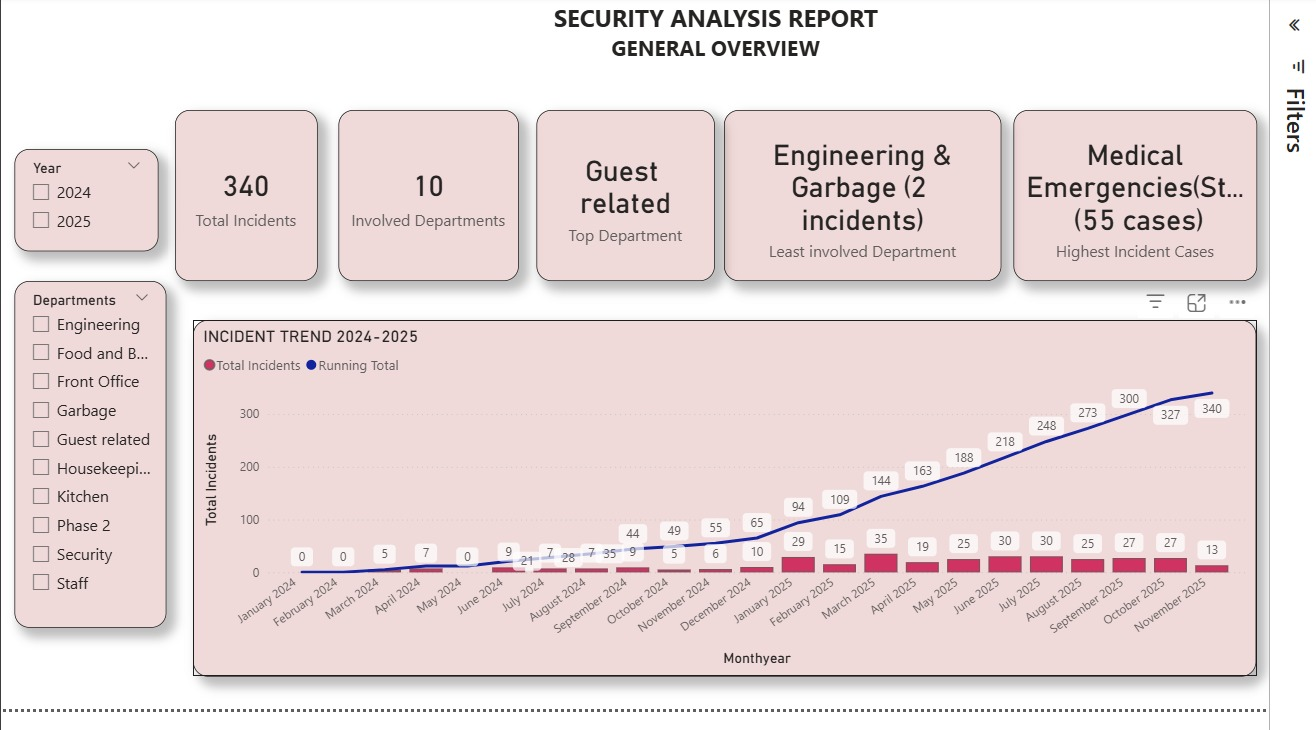

The page's visual inventory and layout, read from the dashboard file:
{"tool":"powerbi","page":{"name":"Overview","canvas":[1280,720],"ordinal":1},"visuals":[{"type":"card","fields":{"Values":["A24/25.Total Incidents"]},"box":[175.6,115.1,143.8,172.6],"z":0},{"type":"card","fields":{"Values":["Data24/25.DistinctDepartments"]},"box":[340.7,115.1,181.7,172.6],"z":1000},{"type":"lineClusteredColumnComboChart","title":"INCIDENT TREND 2024-2025","fields":{"Category":["Data24/25.Monthyear"],"Y":["Data24/25.Total Incidents"],"Y2":["Data24/25.Running Total"]},"box":[193.3,326.7,1073.3,360],"z":2000},{"type":"card","fields":{"Values":["Data24/25.Top Department"]},"box":[540.6,115.1,180.2,172.6],"z":3000},{"type":"card","fields":{"Values":["Data24/25.Best Performing Department"]},"box":[729.8,115.1,280.1,172.6],"z":4000},{"type":"card","fields":{"Values":["Data24/25.Most Rampant Incident"]},"box":[1021.5,115.6,245.9,172.7],"z":5000},{"type":"slicer","fields":{"Values":["Data24/25.Departments"]},"box":[13.3,288.3,153.3,350],"z":6000},{"type":"slicer","fields":{"Values":["Data24/25.Year"]},"box":[13.3,155,145,103.3],"z":7000},{"type":"textbox","box":[175,0,1091.7,100],"z":8000}]}

Visuals, with their boxes on the page's 1280x720 design canvas (x1, y1, x2, y2). These are canvas units, not pixel positions in the 1316x730 screenshot, which may show the page scaled, cropped or inside an application window:
card - A24/25.Total Incidents: bbox=[176, 115, 319, 288]
card - Data24/25.DistinctDepartments: bbox=[341, 115, 522, 288]
"INCIDENT TREND 2024-2025" lineClusteredColumnComboChart: bbox=[193, 327, 1267, 687]
card - Data24/25.Top Department: bbox=[541, 115, 721, 288]
card - Data24/25.Best Performing Department: bbox=[730, 115, 1010, 288]
card - Data24/25.Most Rampant Incident: bbox=[1022, 116, 1267, 288]
slicer - Data24/25.Departments: bbox=[13, 288, 167, 638]
slicer - Data24/25.Year: bbox=[13, 155, 158, 258]
textbox: bbox=[175, 0, 1267, 100]
